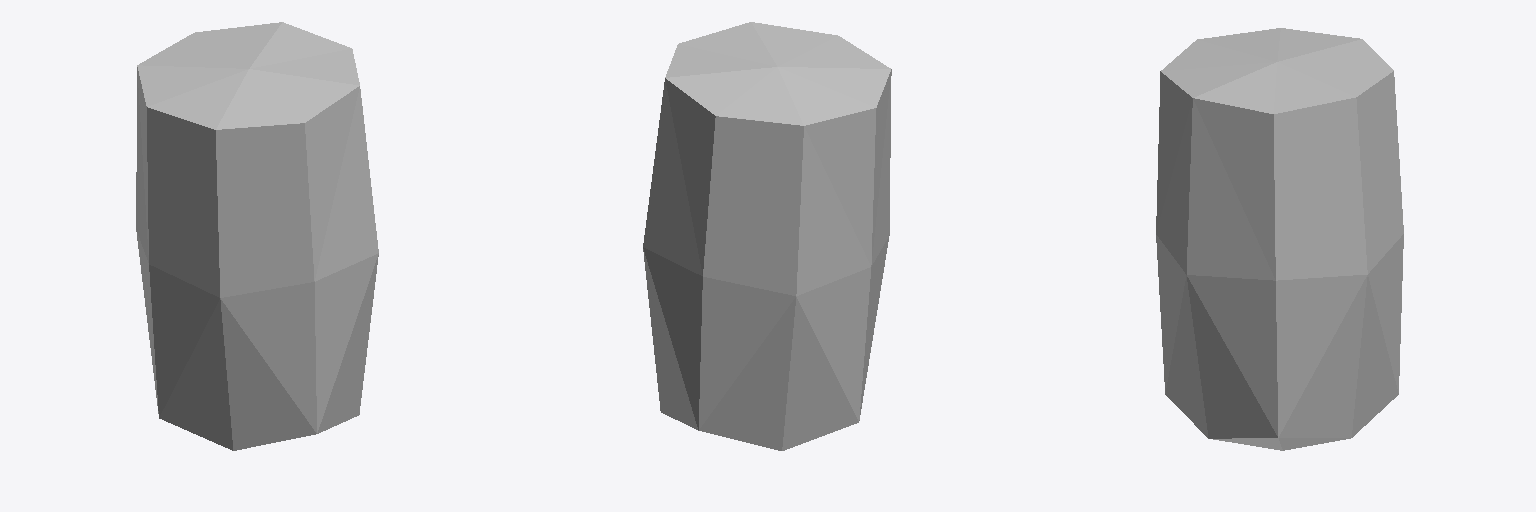
Rendered from leftForearm.obj.
The picture shows the model from 3 angles: view 1: azimuth 30°, elevation 25°; view 2: azimuth 150°, elevation 25°; view 3: azimuth 270°, elevation 25°; orthographic projection.
Parts seen in each view (by area): view 1: Cube.001_Cube.000; view 2: Cube.001_Cube.000; view 3: Cube.001_Cube.000.
Part boxes in pixels (left/top/right/bottom): Cube.001_Cube.000: left=136, top=22, right=378, bottom=450; Cube.001_Cube.000: left=643, top=22, right=891, bottom=450; Cube.001_Cube.000: left=1156, top=28, right=1403, bottom=450.
Size of the model in its own units: 0.6007 by 1 by 0.5927.